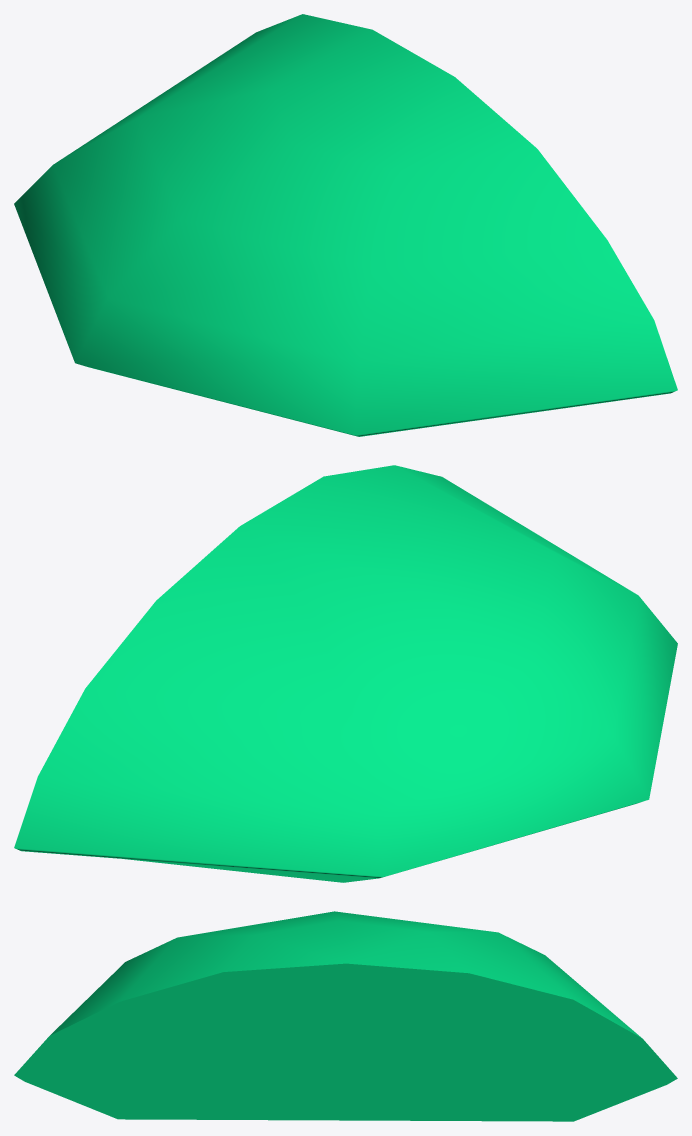
The model's file is Mushroom_Flat_02.fbx.
The picture shows the model from 3 angles, top to bottom: view 1: azimuth 30°, elevation 25°; view 2: azimuth 150°, elevation 25°; view 3: azimuth 270°, elevation 25°; orthographic projection. The views are drawn at different scales.
Parts seen in each view (by area): view 1: Mushroom_Flat_02; view 2: Mushroom_Flat_02; view 3: Mushroom_Flat_02.
Boxes of the visible parts, box(x1,y1,x2,y2) form: Mushroom_Flat_02: box(14, 14, 677, 436); Mushroom_Flat_02: box(14, 465, 677, 882); Mushroom_Flat_02: box(14, 911, 677, 1121).
Bounding box in the file's own units: 60.04 × 33.6 × 118.
